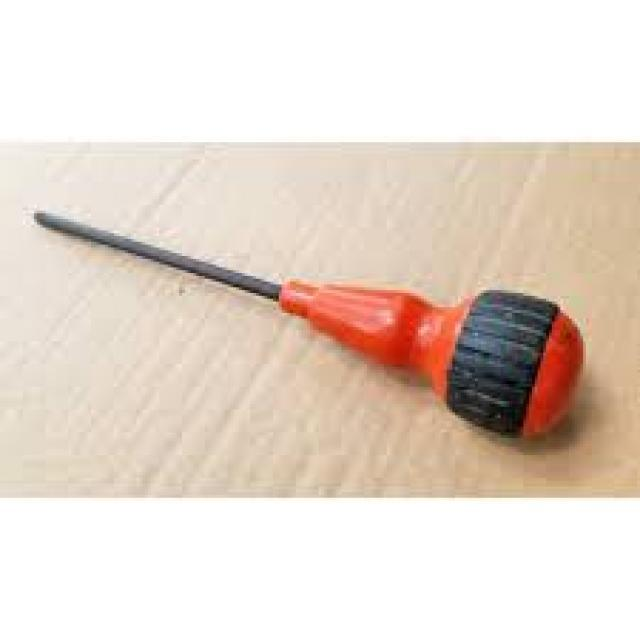screwdriver: (30, 206, 588, 448)
